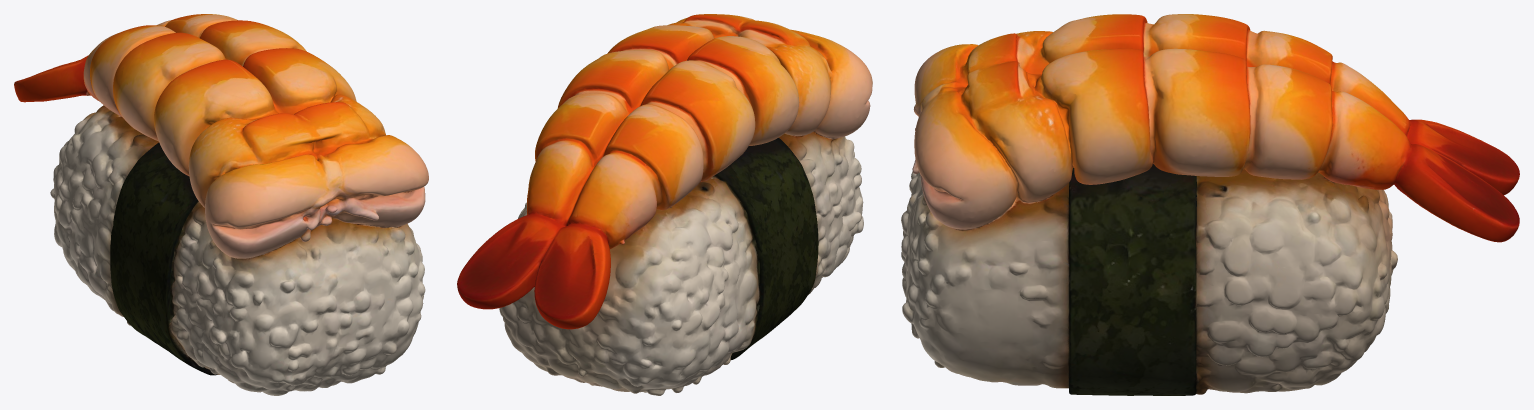
The model's file is tripo_convert_d25997a7-db8f-4565-b65c-dad81a4bb9dd.fbx.
3 views of the same model, side by side, from view 1: azimuth 30°, elevation 25°; view 2: azimuth 150°, elevation 25°; view 3: azimuth 270°, elevation 25° (orthographic). The views are drawn at different scales.
Visible parts, largest first — view 1: tripo_node_d25997a7; view 2: tripo_node_d25997a7; view 3: tripo_node_d25997a7.
Boxes of the visible parts, left/top/right/bottom form: tripo_node_d25997a7: left=14, top=14, right=428, bottom=395; tripo_node_d25997a7: left=457, top=14, right=872, bottom=395; tripo_node_d25997a7: left=901, top=14, right=1519, bottom=395.
Bounding box in the file's own units: 0.4498 × 0.5852 × 1.
